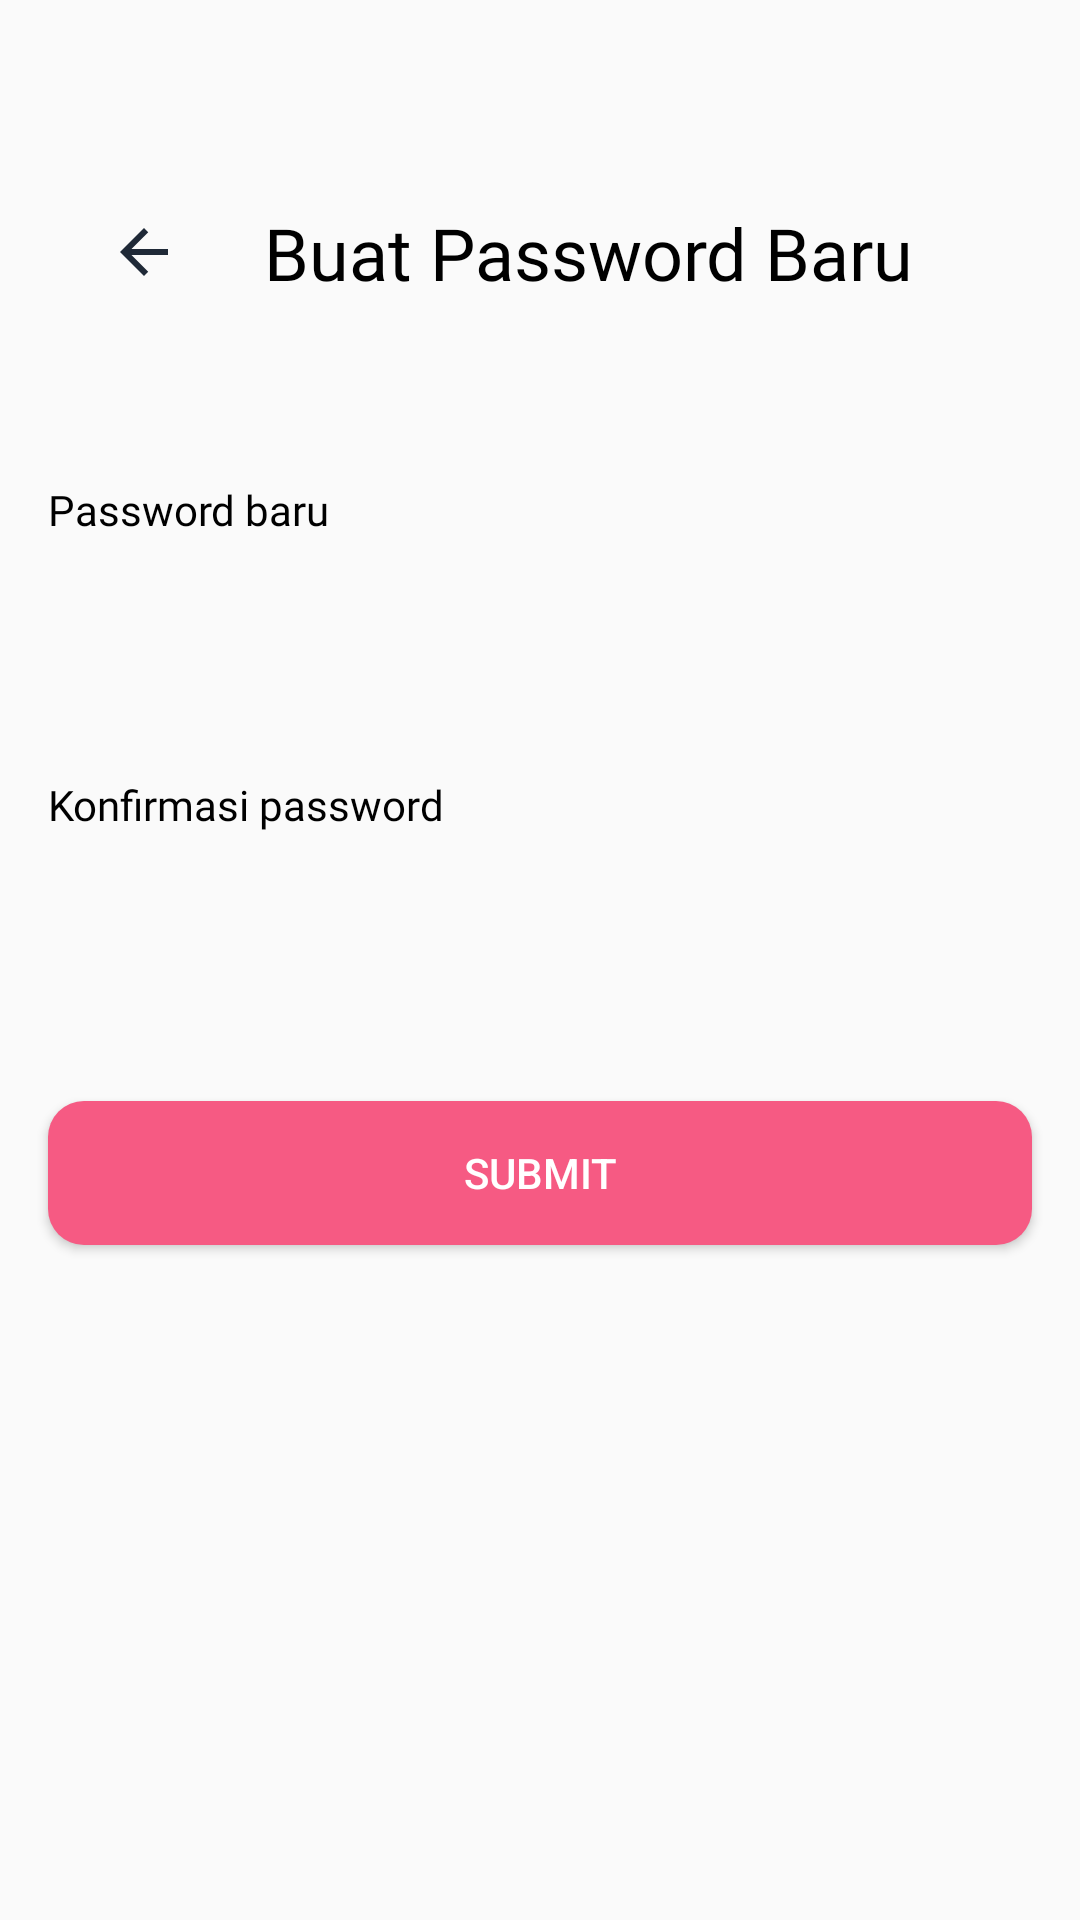

Icon click points for this 1080x1920 phone screenshot, format (x,y):
back: (144,252)
